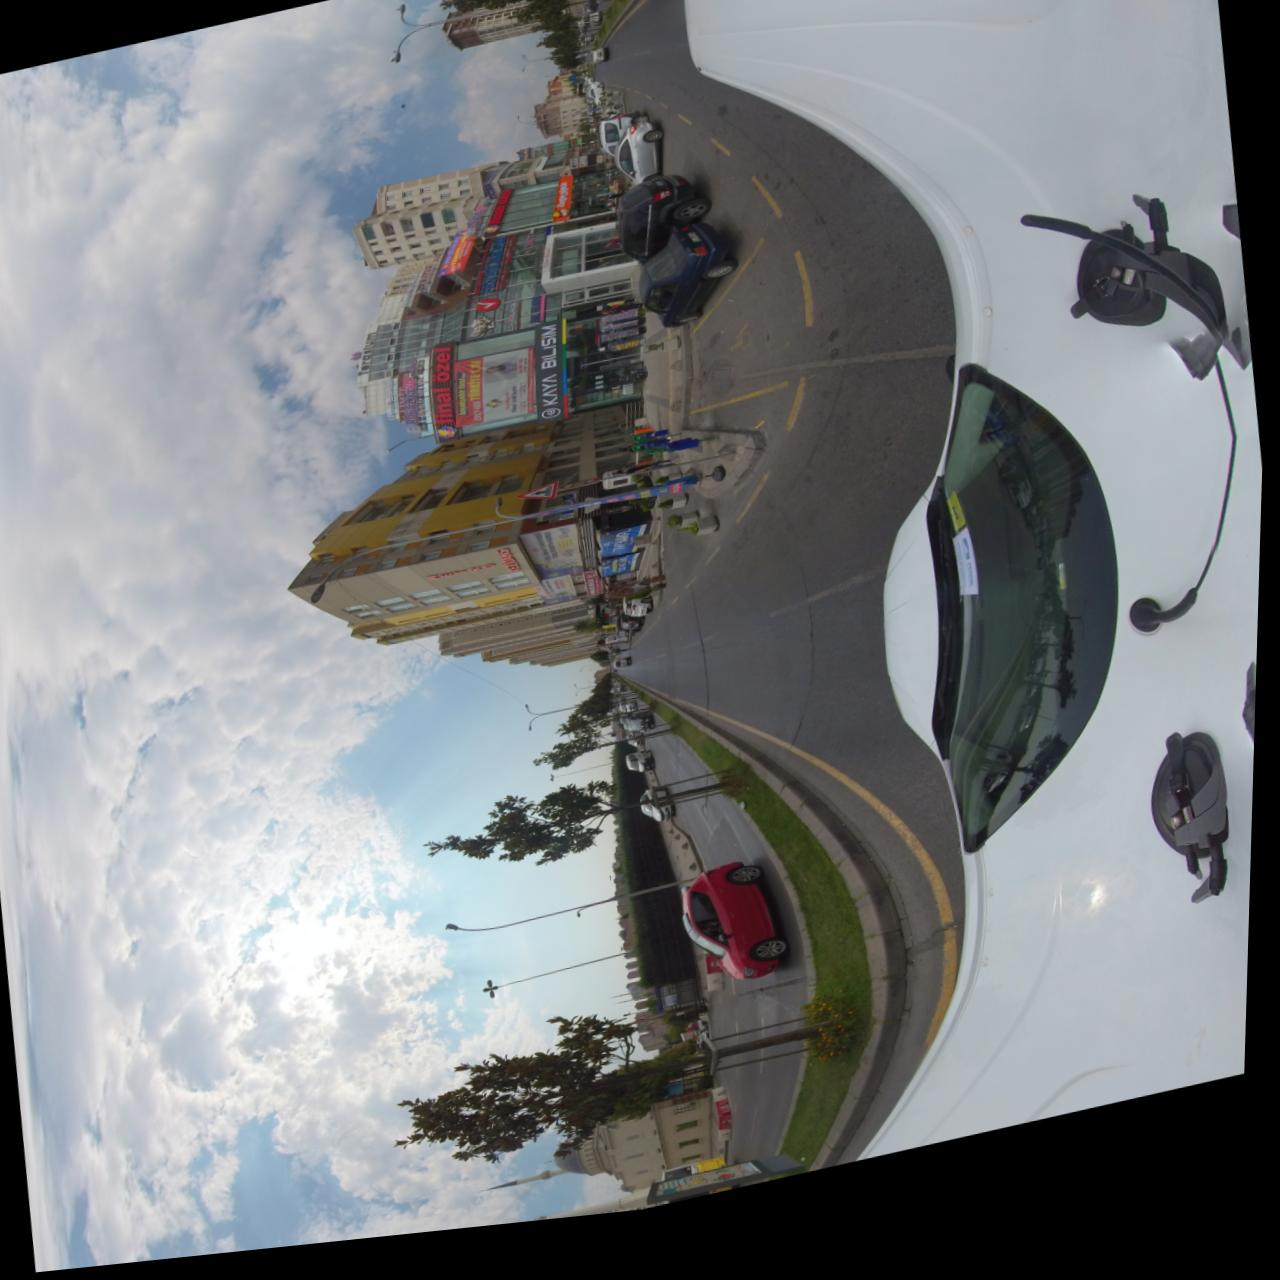SignStore: (537, 334, 568, 431), (349, 328, 392, 399), (433, 355, 458, 451), (478, 244, 518, 305), (399, 270, 440, 316), (484, 198, 515, 243), (465, 206, 493, 239), (557, 191, 572, 230), (530, 256, 547, 288), (587, 583, 607, 606), (520, 158, 531, 170), (580, 168, 590, 179), (572, 170, 579, 182)
